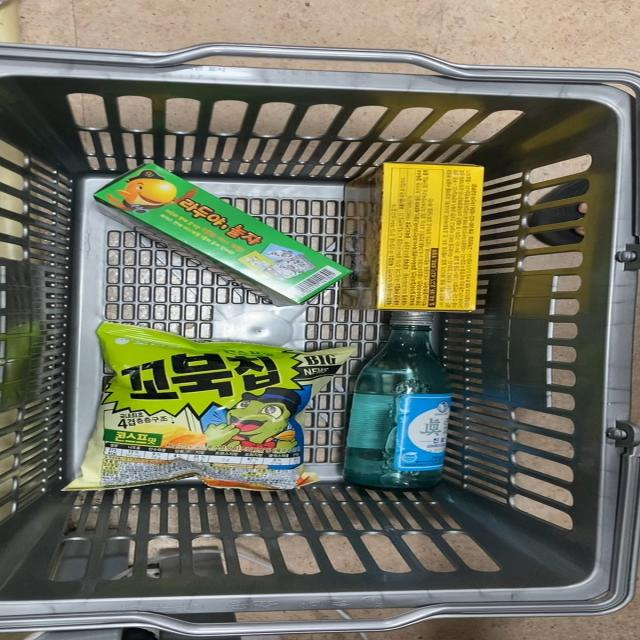ggobukchip: (78, 316, 318, 487)
goraebob: (75, 146, 345, 311)
jinro: (336, 310, 467, 493)
minicrab: (333, 161, 506, 329)
